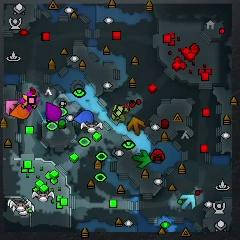Other: (19, 91, 39, 112)
p1: (73, 110, 94, 125)
p3: (45, 102, 61, 121)
p5: (9, 104, 31, 120)
x1: (5, 100, 18, 115)
x3: (179, 194, 196, 209)
x4: (132, 149, 151, 167)
x5: (127, 116, 145, 136)
